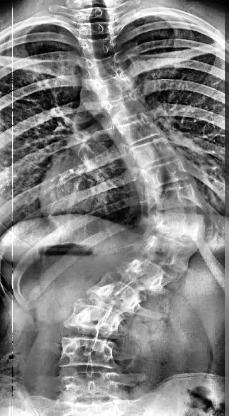Vertebrae: (54, 369, 130, 405), (63, 296, 126, 338), (88, 274, 146, 318), (140, 230, 198, 272), (142, 208, 208, 244), (116, 257, 174, 297), (56, 334, 118, 370), (133, 156, 193, 192), (121, 134, 178, 170), (140, 182, 204, 214), (113, 113, 163, 148), (103, 89, 148, 127), (90, 70, 134, 102), (82, 53, 128, 81), (76, 34, 126, 58)
